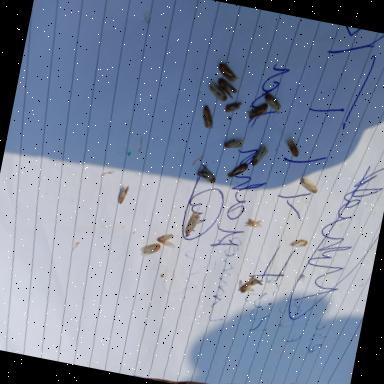pbw: (215, 78, 240, 102), (216, 62, 242, 84), (185, 204, 202, 237), (138, 240, 161, 262), (226, 161, 249, 182), (250, 144, 270, 168), (248, 100, 268, 124), (194, 164, 217, 184), (200, 106, 217, 132), (262, 92, 283, 113), (207, 82, 229, 102), (155, 232, 177, 250), (284, 137, 302, 158), (239, 276, 257, 296), (298, 178, 320, 194), (224, 137, 245, 151), (224, 100, 242, 116), (118, 184, 130, 206), (292, 238, 308, 250), (248, 218, 263, 228), (250, 278, 263, 288)
